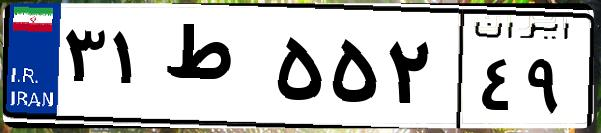1: (110, 28, 158, 98)
2: (385, 28, 445, 110)
3: (57, 26, 110, 100)
4: (475, 38, 525, 113)
5: (270, 28, 330, 110), (330, 28, 385, 110)
9: (525, 38, 570, 115)
ط: (158, 20, 270, 120)
